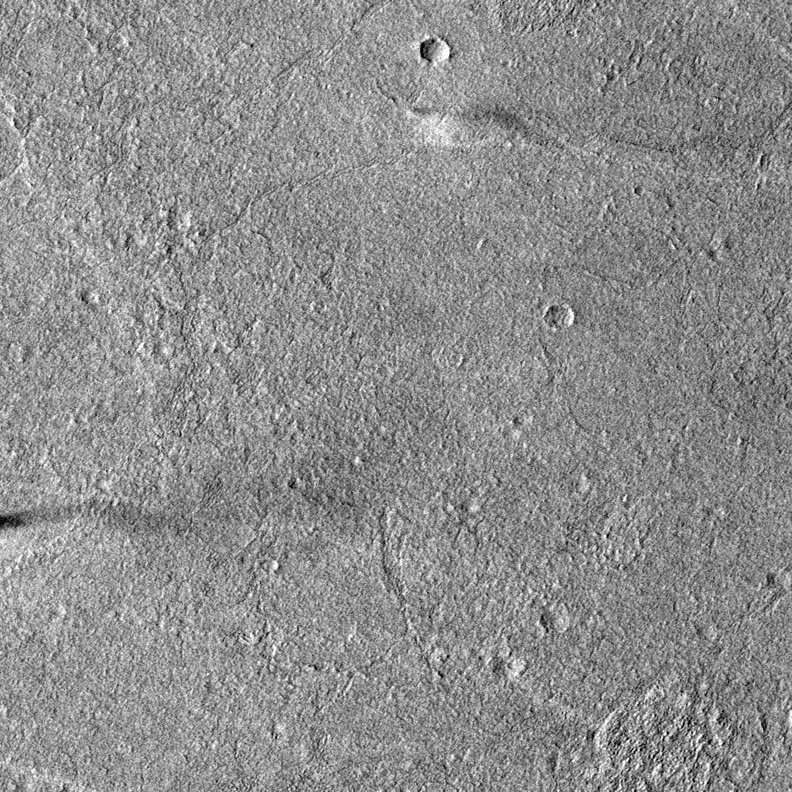dust_devil: (1, 501, 166, 538), (403, 105, 531, 151)
